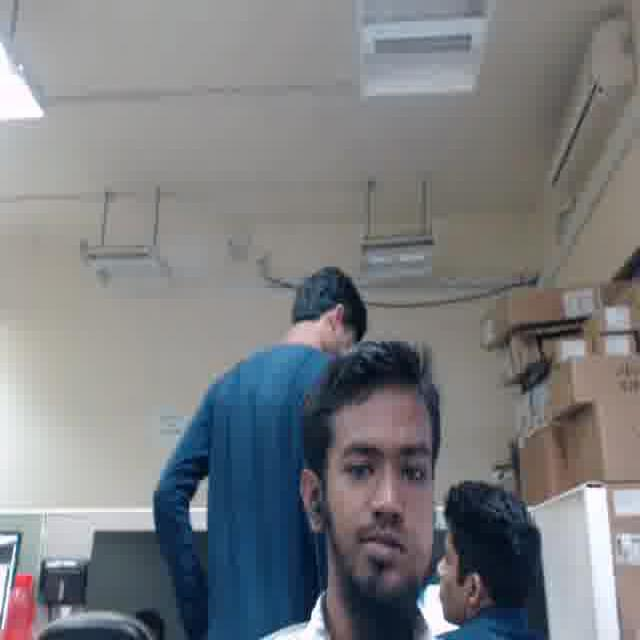Engaged: (323, 389, 440, 592)
